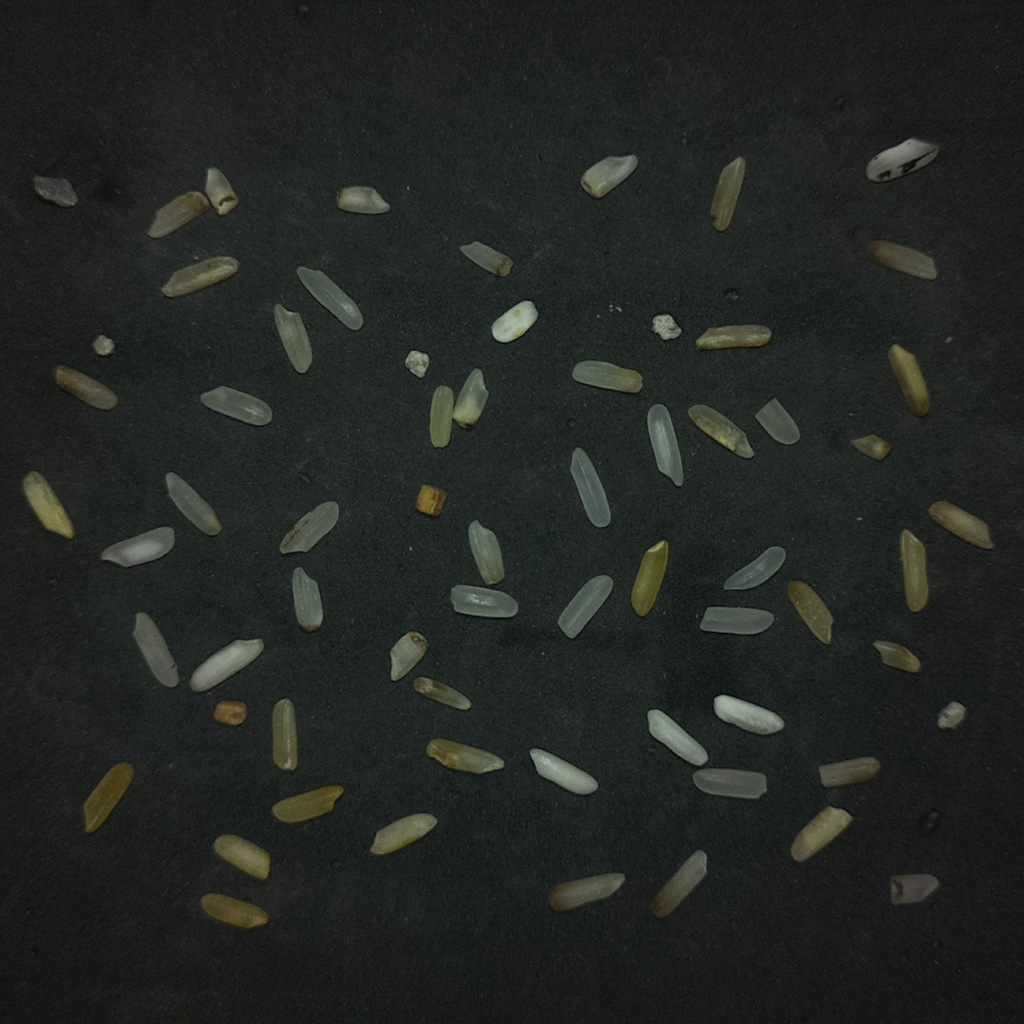broken: (468, 520, 504, 584), (755, 399, 800, 445)
chalky: (190, 638, 264, 692), (647, 709, 707, 766), (529, 748, 597, 794), (101, 527, 174, 566), (713, 694, 783, 734)
damaged: (688, 404, 753, 457), (865, 138, 938, 181), (161, 256, 238, 296), (147, 191, 209, 238), (54, 365, 117, 410), (426, 738, 504, 773), (580, 154, 637, 197), (292, 567, 323, 631), (413, 677, 471, 709), (460, 241, 513, 276), (390, 631, 427, 680), (205, 166, 238, 215), (890, 873, 939, 904), (337, 187, 390, 214), (415, 484, 447, 517), (851, 434, 891, 460), (213, 700, 247, 725)
discolored: (651, 850, 706, 917), (83, 762, 133, 832), (22, 471, 74, 538), (791, 806, 851, 861), (928, 501, 993, 549), (888, 344, 929, 416), (631, 540, 669, 617), (787, 581, 833, 644), (548, 873, 624, 911), (370, 812, 437, 854), (272, 785, 343, 823), (869, 241, 937, 279), (213, 834, 270, 879), (710, 157, 745, 230), (201, 893, 268, 929), (900, 529, 928, 611), (572, 360, 642, 392), (452, 368, 488, 428), (491, 300, 537, 342), (818, 756, 880, 787), (696, 324, 771, 349), (272, 699, 297, 770), (873, 640, 920, 672), (429, 385, 453, 447)
foreign: (33, 175, 77, 207), (937, 701, 966, 729), (652, 314, 681, 340), (404, 350, 429, 378), (92, 334, 114, 356)
red: (279, 501, 339, 553)
whole: (297, 266, 363, 329), (165, 472, 221, 536), (558, 575, 612, 638), (133, 612, 178, 687), (570, 448, 610, 527), (647, 404, 683, 486), (200, 386, 272, 426), (723, 546, 785, 589), (274, 304, 312, 372), (692, 769, 766, 799), (450, 585, 518, 617), (699, 606, 773, 634)
